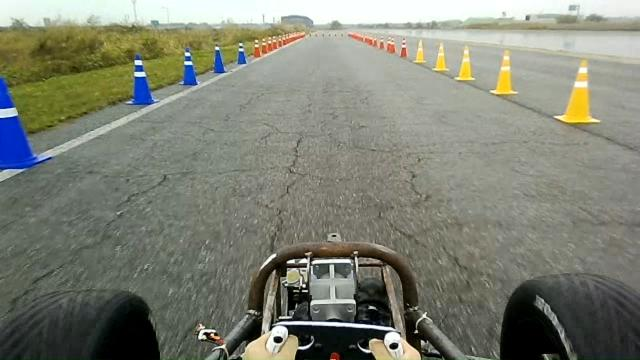blue cone: (0, 76, 52, 170), (124, 54, 158, 105), (178, 46, 198, 86), (211, 44, 226, 73), (235, 41, 248, 65)
yellow cone: (553, 58, 600, 124), (489, 49, 518, 96), (454, 45, 475, 81), (432, 41, 450, 72), (413, 39, 426, 63)
